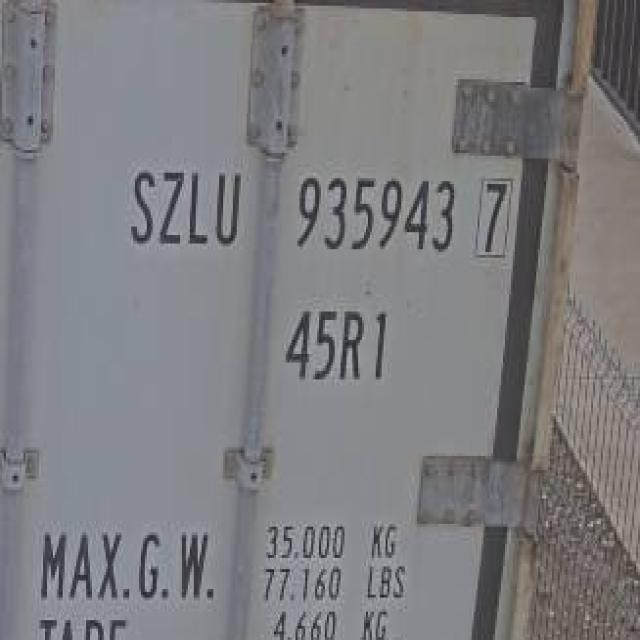dv: (464, 163, 516, 261)
owner: (125, 160, 248, 255)
serial: (287, 164, 456, 258)
size: (273, 305, 399, 382)
